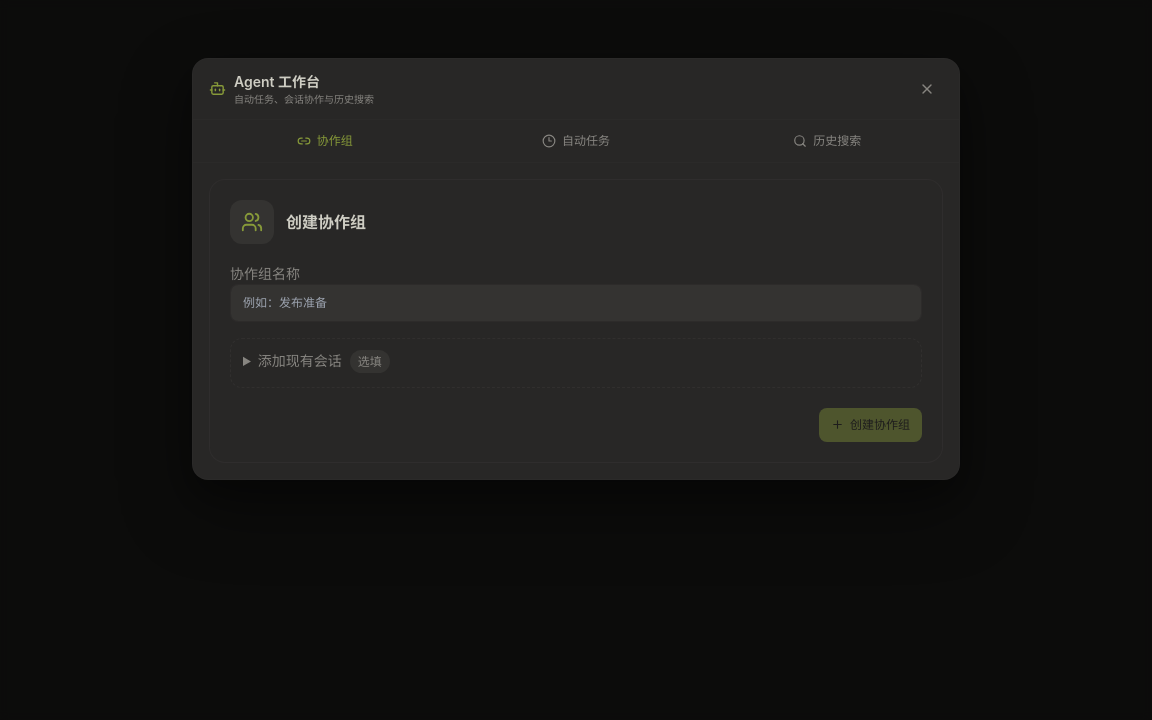
Test: AgentOperationsPanel › opens directory browsing as a focused dialog and Escape keeps the task form open
Click the button "自动任务". click: (576, 141)
box: [452, 124, 700, 158]
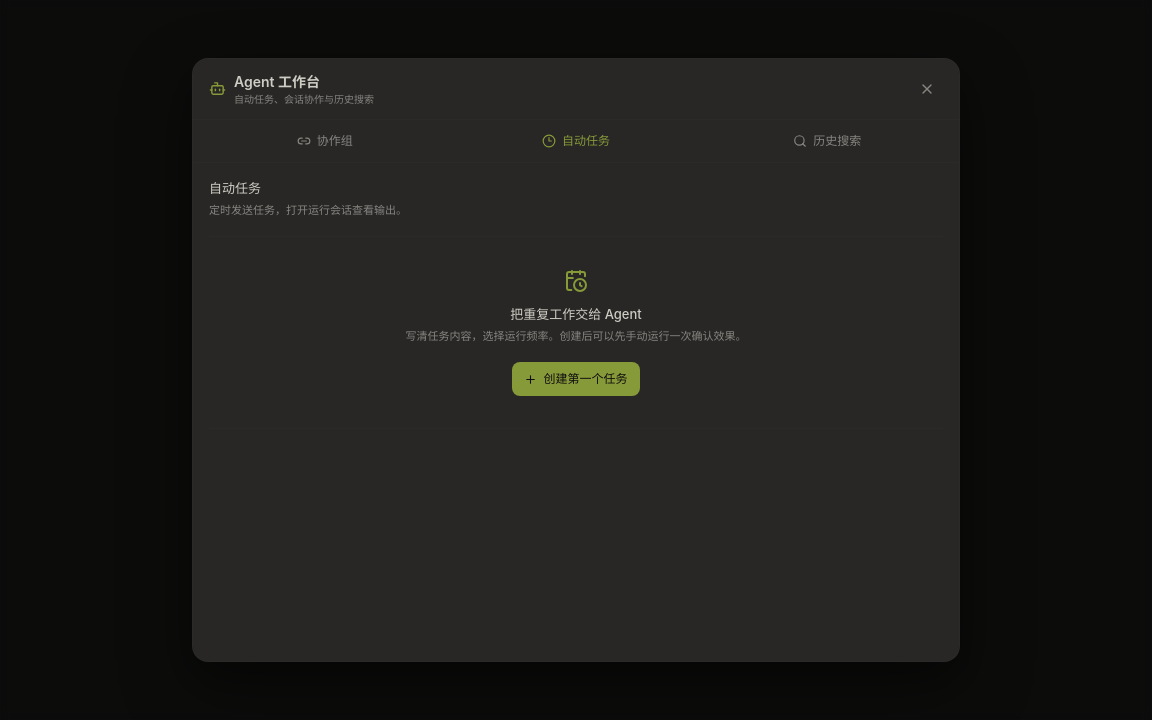
Click the button "创建第一个任务". click: (576, 379)
box: [512, 362, 640, 396]
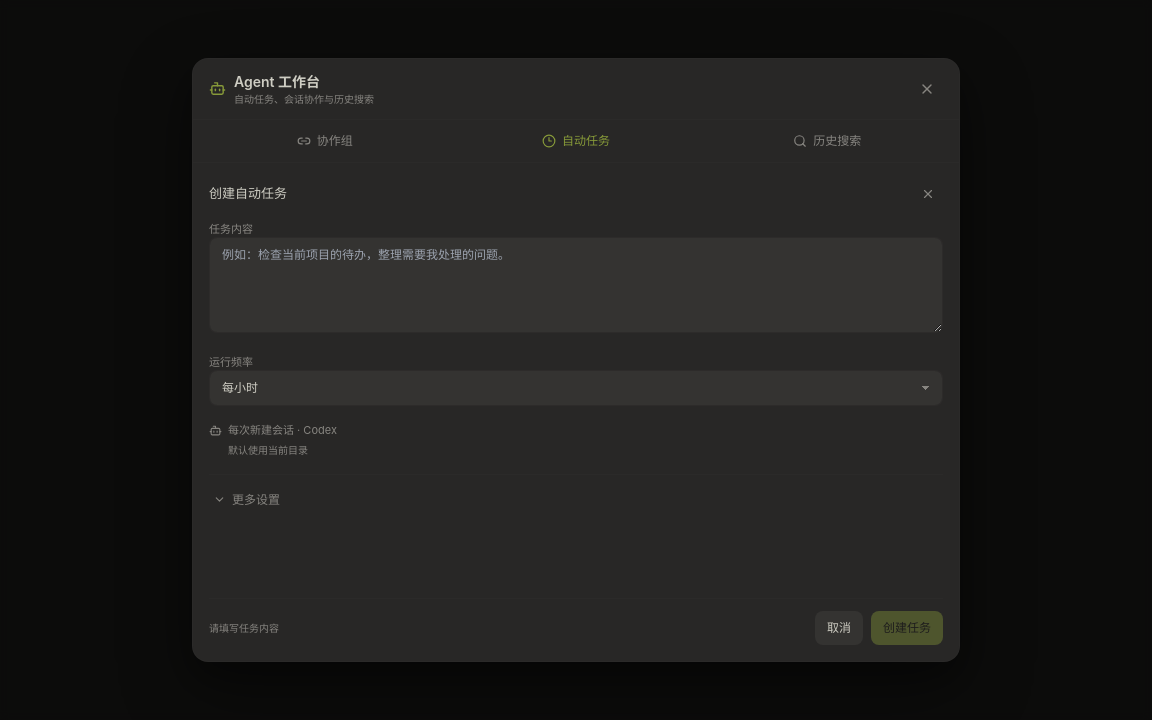
Click the button "更多设置". click: (246, 500)
box: [201, 483, 292, 517]
(page scrolled)
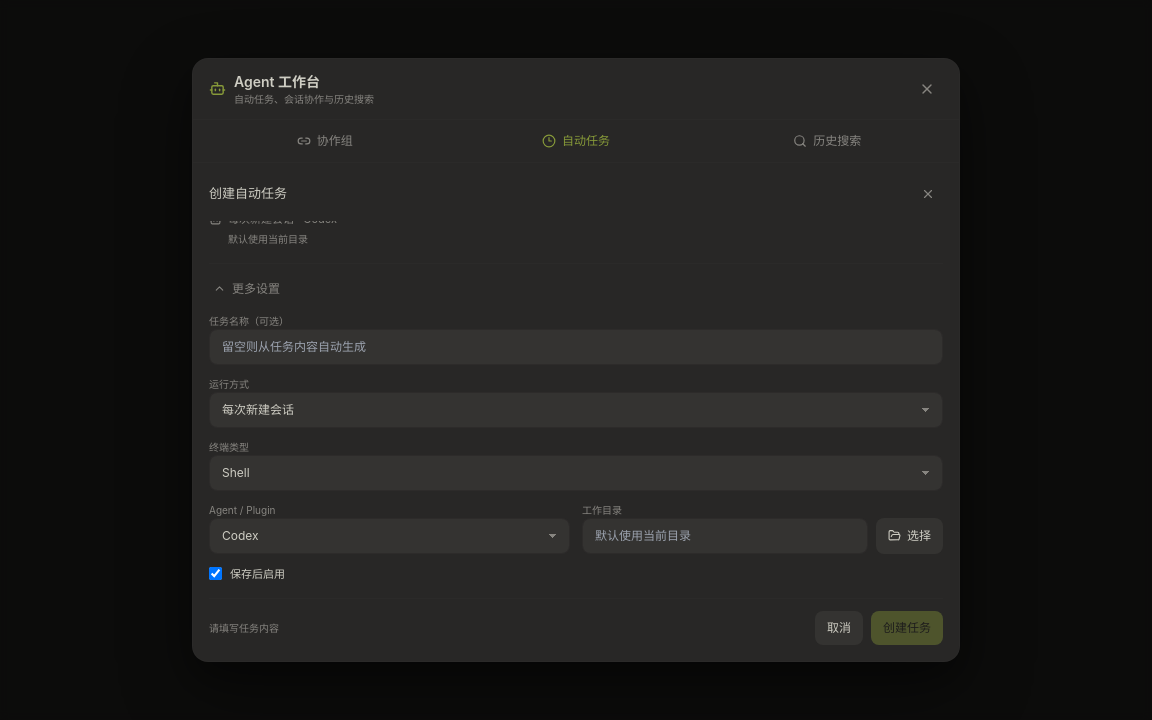
Click the button "选择". click: (910, 536)
box: [876, 518, 943, 554]
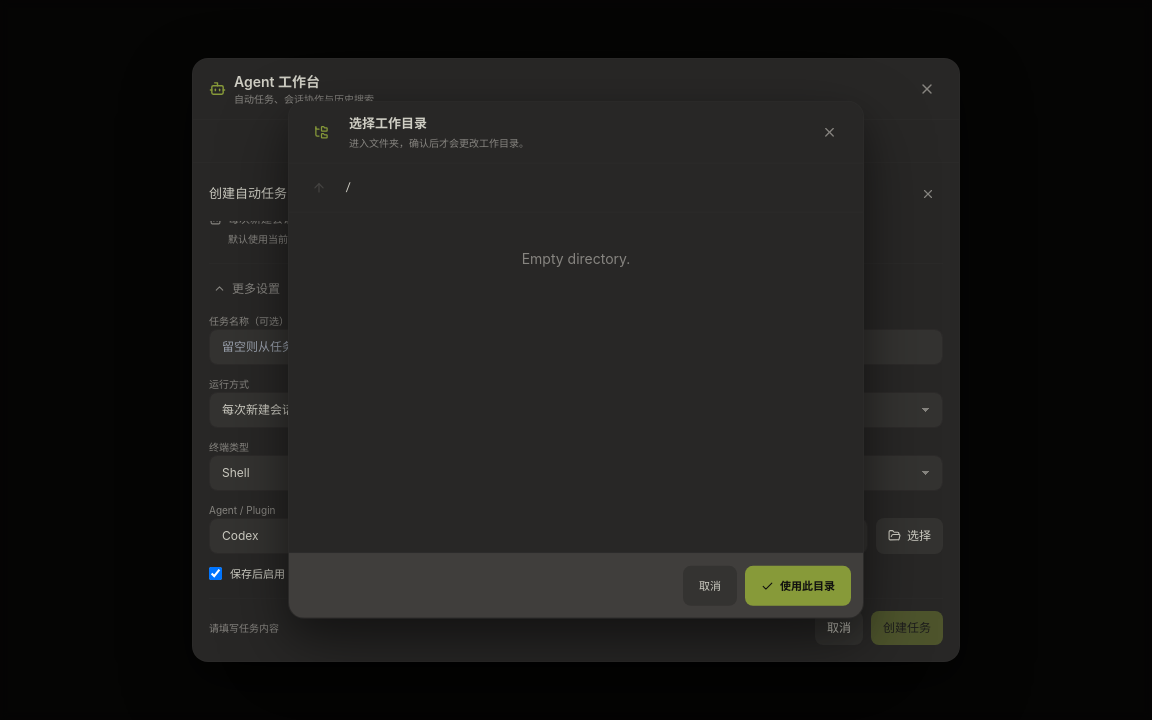
Expected: the dialog "选择工作目录" is shown, [288, 101, 864, 619]
Press Escape
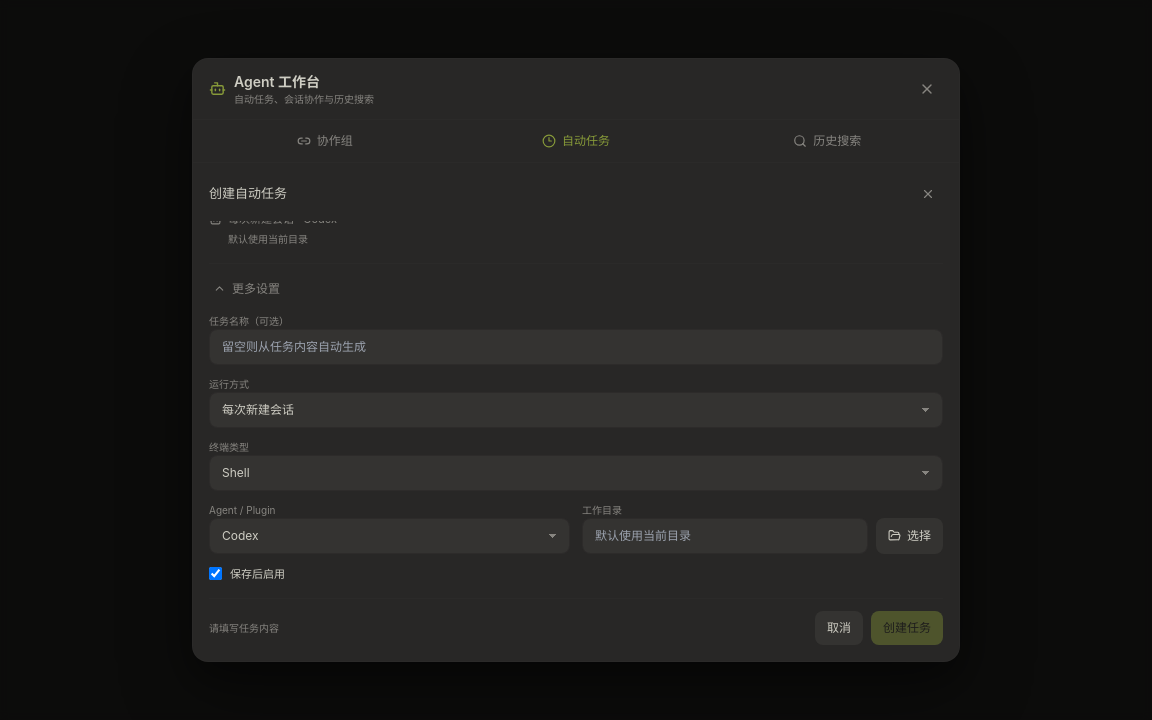
Expected: the heading "选择工作目录" is gone
